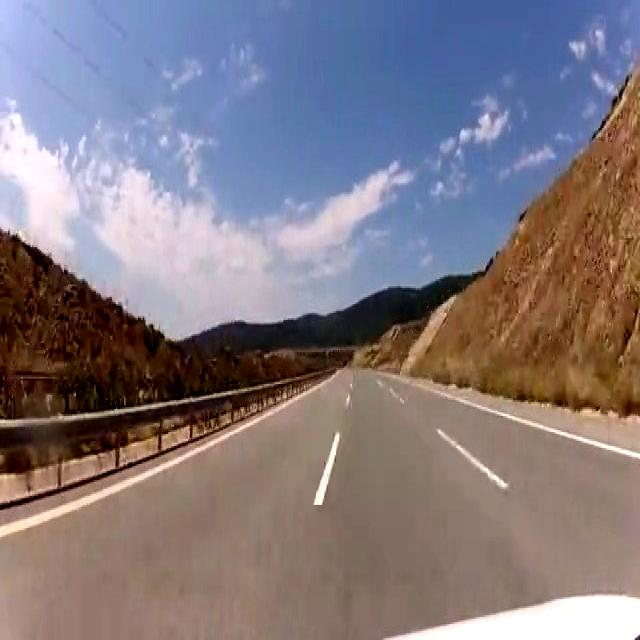lane: (1, 406, 284, 539), (416, 383, 640, 459), (436, 429, 509, 490), (314, 431, 338, 506)
road: (2, 369, 639, 637)
